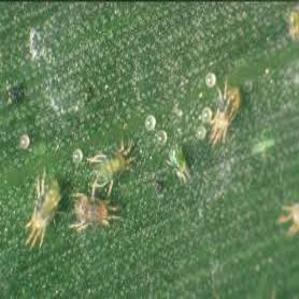spider mite: (0, 152, 69, 249), (198, 84, 259, 160), (70, 135, 143, 196), (163, 137, 213, 201), (71, 191, 112, 245)
